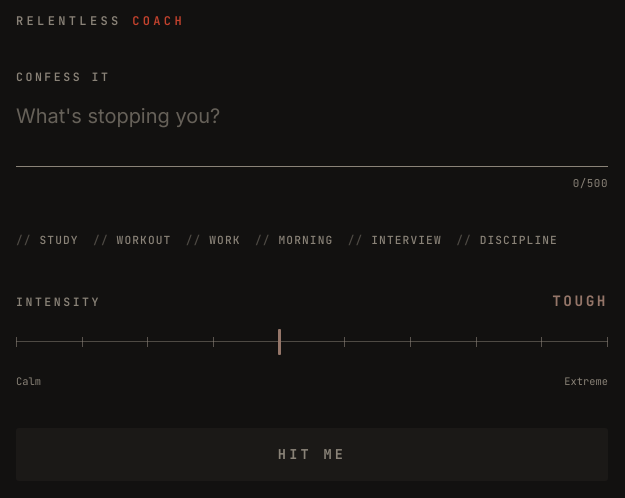
Home page › fills the textarea when a preset is clicked
Click the button "Study" at (47, 240), box [16,230,79,251]
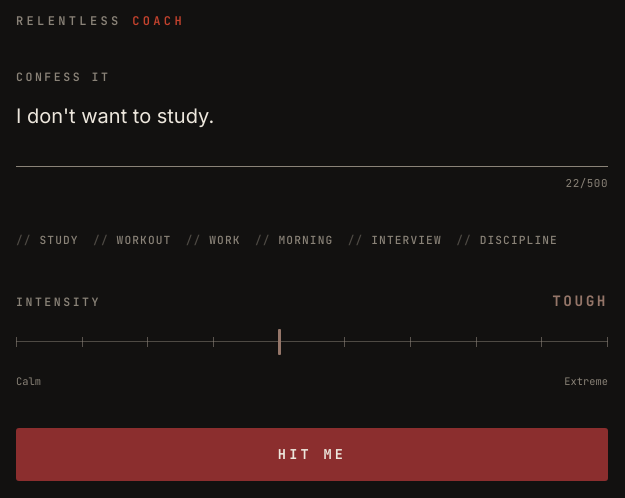
Result: the text box with placeholder "What's stopping you?" holds "I don't want to study." at [16,94,608,167]
